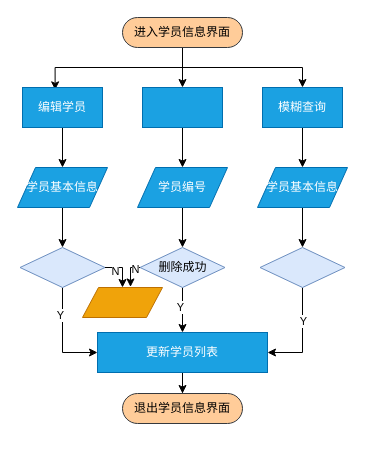
This 365x449 diagram has some shape labels left out. Each missing label, with the box of its shape:
删除学员: (142, 86, 222, 128)
更新成功: (19, 246, 105, 288)
查找成功: (259, 246, 345, 288)
错误提示: (82, 286, 162, 318)
